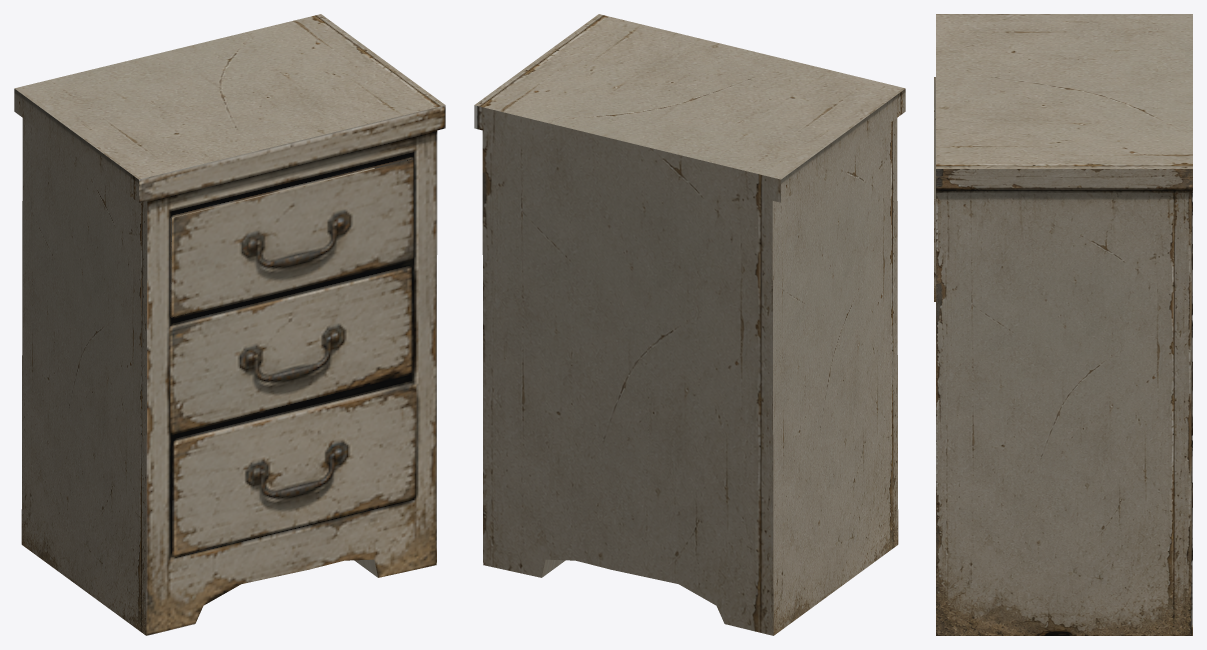
File: DrawerAndPart.fbx
The picture shows the model from 3 angles, left to right: view 1: azimuth 30°, elevation 25°; view 2: azimuth 150°, elevation 25°; view 3: azimuth 270°, elevation 25°; orthographic projection. The views are drawn at different scales.
Visible parts, largest first — view 1: Plane, Plane.001; view 2: Plane; view 3: Plane.
Part boxes in pixels (x1,y1,x2,y2): Plane: (14,14,445,635); Plane.001: (170,159,413,316); Plane: (474,14,905,635); Plane: (934,14,1192,635).
Bounding box in the file's own units: 330 × 471 × 234.
4 materials, 4 textured.
